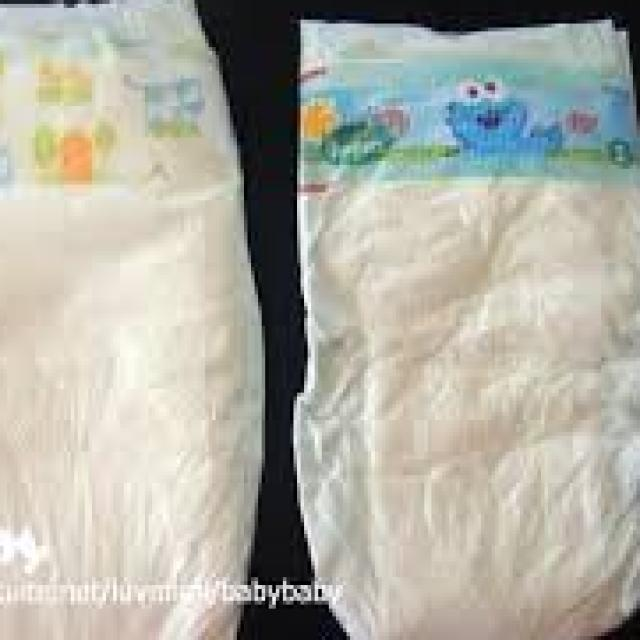organic: (4, 9, 617, 621)
